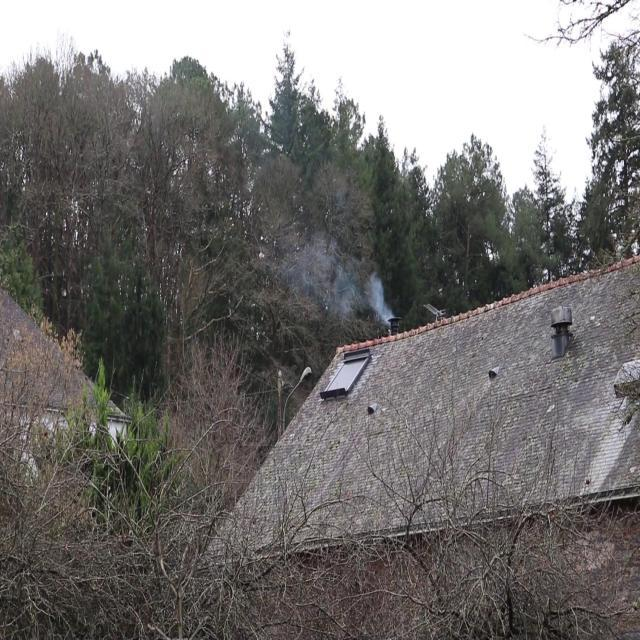Smoke: (310, 260, 392, 323)
